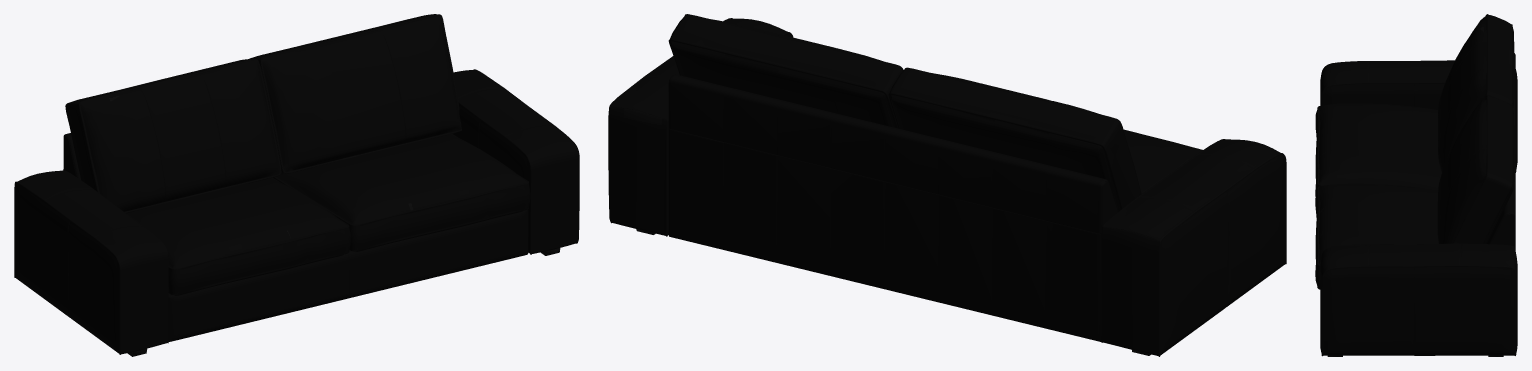
The model's file is kivik_sofa_3_osobowa_00519525.glb.
3 renders of one model, left to right at view 1: azimuth 30°, elevation 25°; view 2: azimuth 150°, elevation 25°; view 3: azimuth 270°, elevation 25°, orthographic. The views are drawn at different scales.
Visible parts, largest first — view 1: kivik_sofa_3_osobowa_00519525; view 2: kivik_sofa_3_osobowa_00519525; view 3: kivik_sofa_3_osobowa_00519525.
Part boxes in pixels (x1,y1,x2,y2): kivik_sofa_3_osobowa_00519525: [14, 14, 579, 356]; kivik_sofa_3_osobowa_00519525: [608, 14, 1286, 356]; kivik_sofa_3_osobowa_00519525: [1315, 14, 1517, 356].
Bounding box in the file's own units: 2.3 × 0.8645 × 0.944.
Materials: 1 (1 with a texture image).
